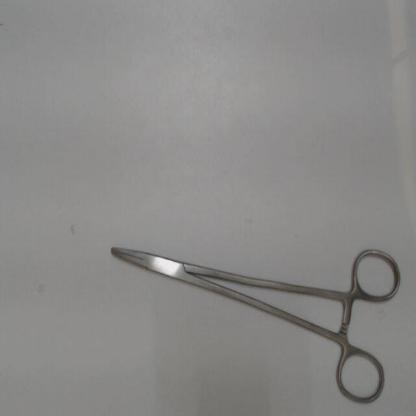8 Mayo Needle Holder: (98, 231, 406, 411)
